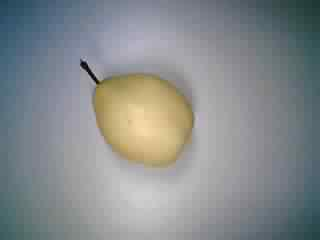pear: (72, 52, 199, 172)
